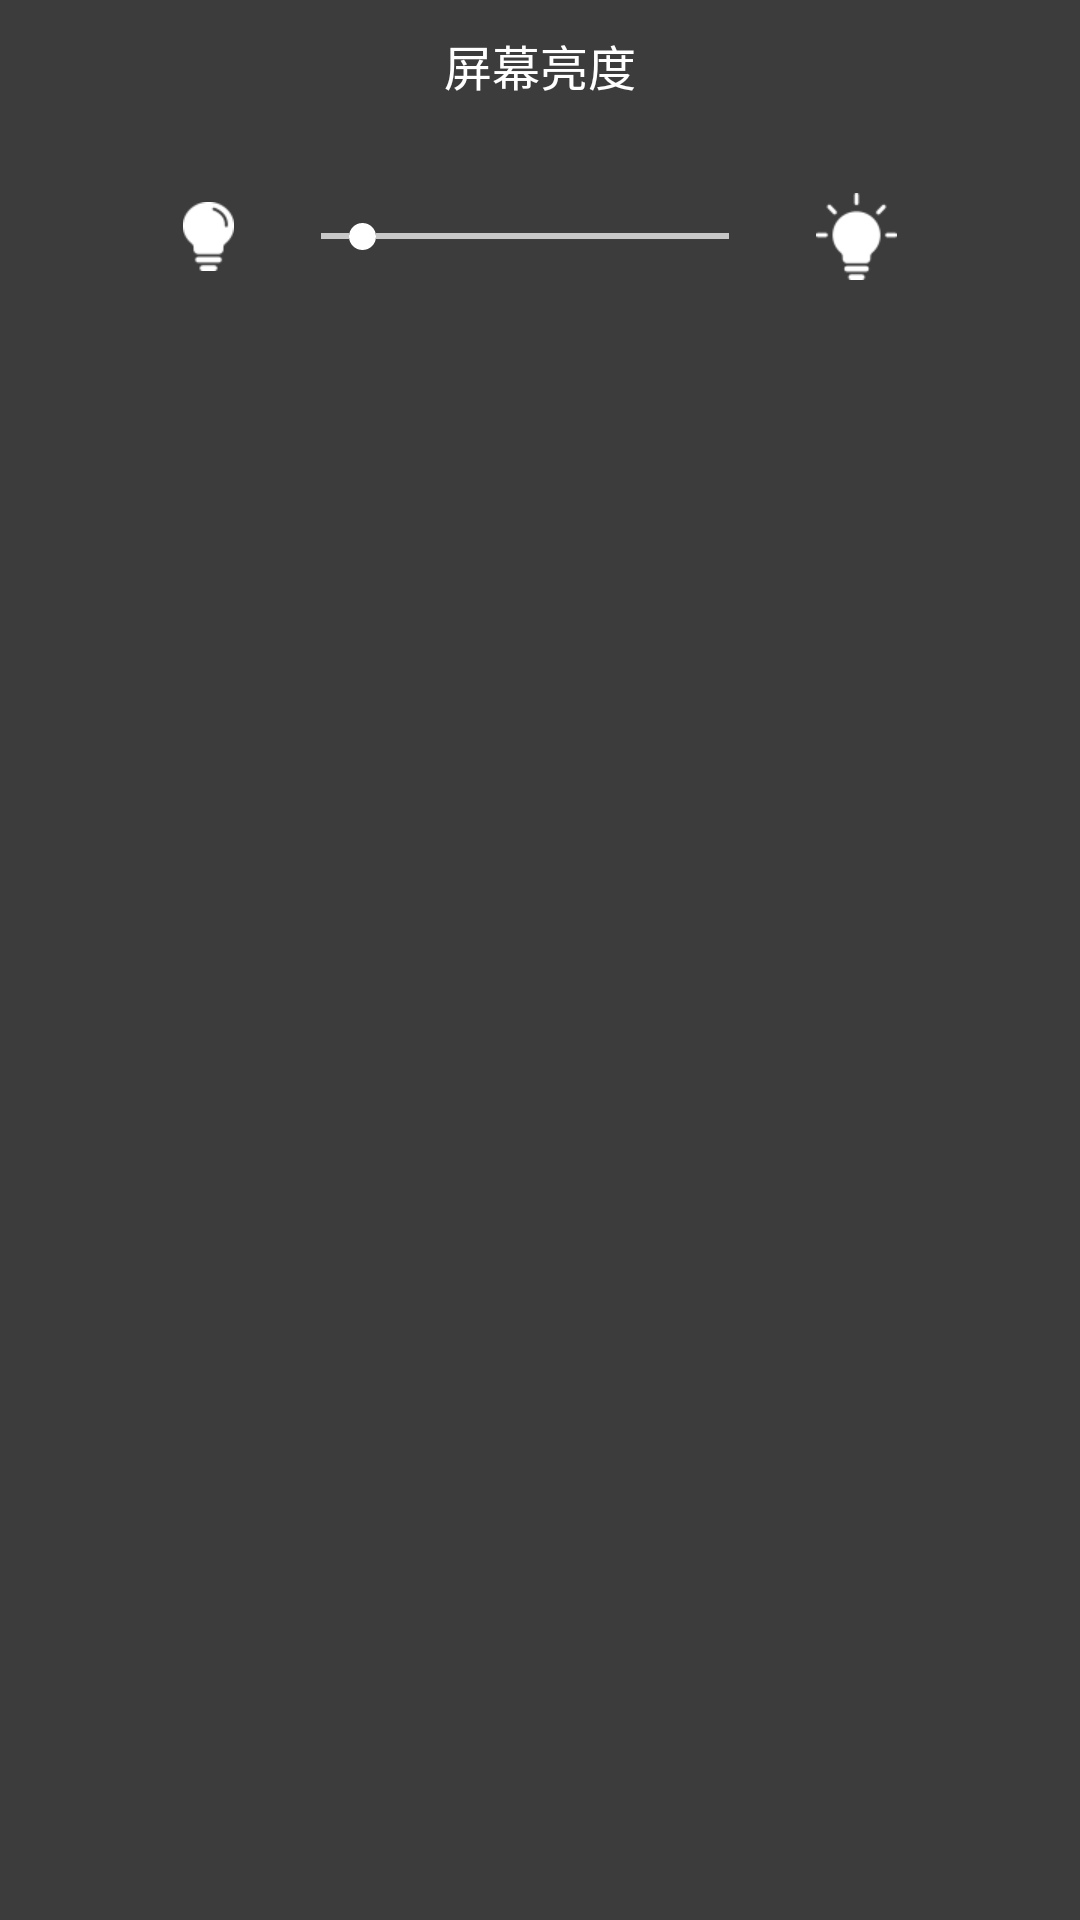

Icons on this 1080*1920 Android screen, each with the point to tap as (x=x, y=y):
zjb read set brighten: (x=856, y=236)
zjb read set darken: (x=208, y=236)
